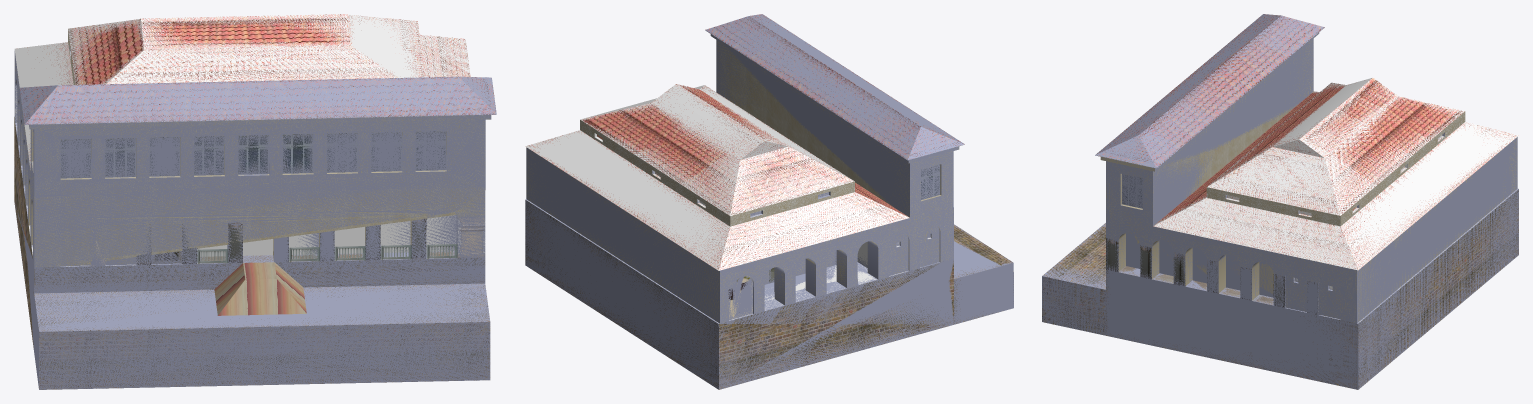
The model's file is F2700016教士會館.fbx.
3 renders of one model, left to right at view 1: azimuth 30°, elevation 25°; view 2: azimuth 150°, elevation 25°; view 3: azimuth 270°, elevation 25°, orthographic. The views are drawn at different scales.
Visible parts, largest first — view 1: Model, Group1; view 2: Model; view 3: Model.
Boxes of the visible parts, x1=… form: Model: x1=14, y1=14, x2=496, y2=389; Group1: x1=214, y1=262, x2=306, y2=315; Model: x1=525, y1=14, x2=1013, y2=389; Model: x1=1042, y1=14, x2=1518, y2=389.
Bounding box in the file's own units: 31.92 × 14.67 × 31.85.
